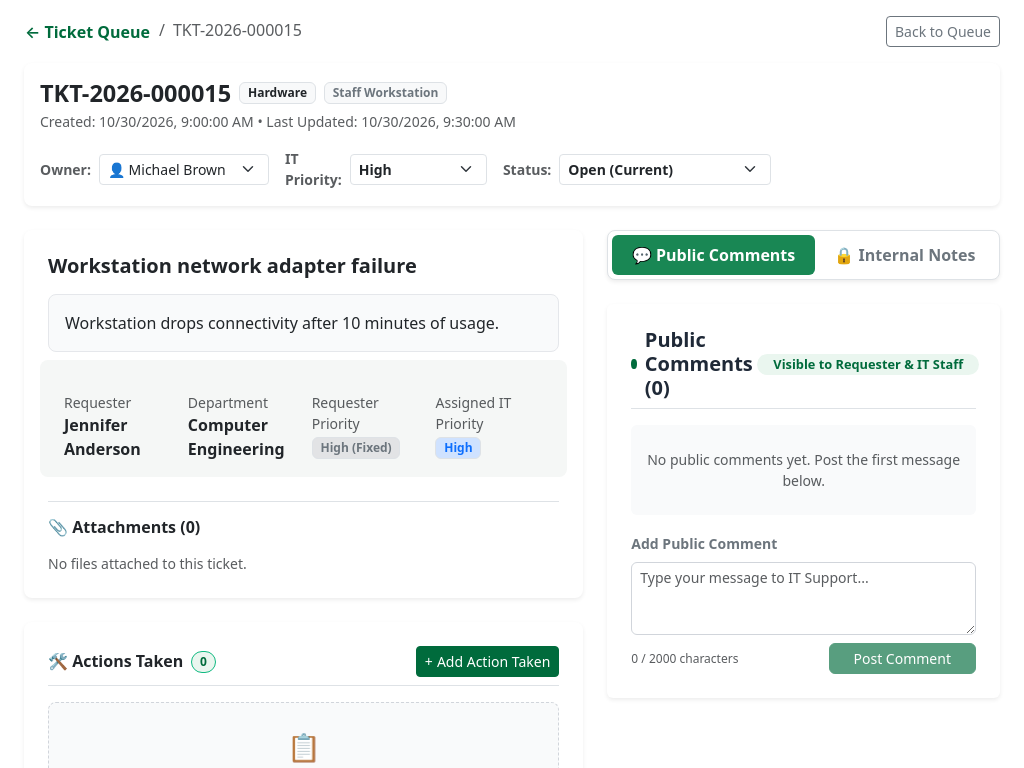
Test case: Lab 4 Issue 4: Ticket Workflow, Status Transitions, and Resolution Gate UI (UI-03, AC-05, AC-06, FR-07, BR-06, BR-07) › Status Mutation & Concurrency Handling (BR-08, AC-07) › displays error alert when concurrency conflict occurs (409 Conflict)
The width and height of the screenshot is (1024, 768).
Check: the list item "TKT-2026-000015" is shown, box [151,18,302,45]
Select "→ InProgress" in the dropdown with id "ticket-status-select" at (665, 169), box [559,154,771,185]
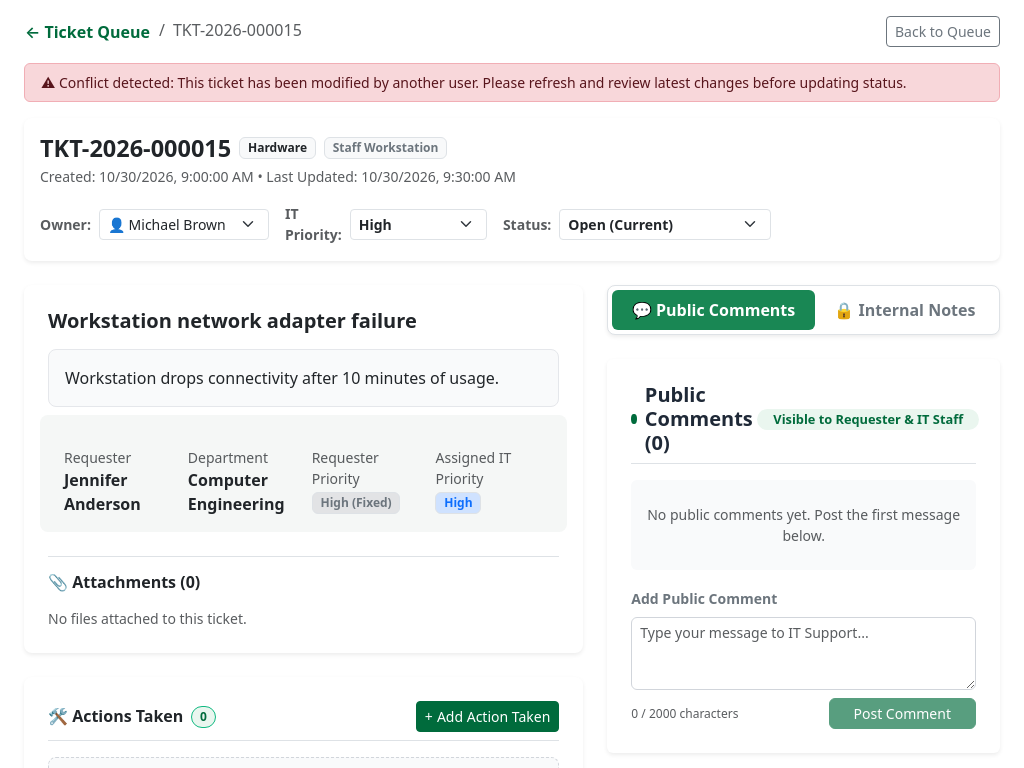
Check: the text "Conflict detected: This ticket has been modified by another user" is shown, box [59,73,907,92]
